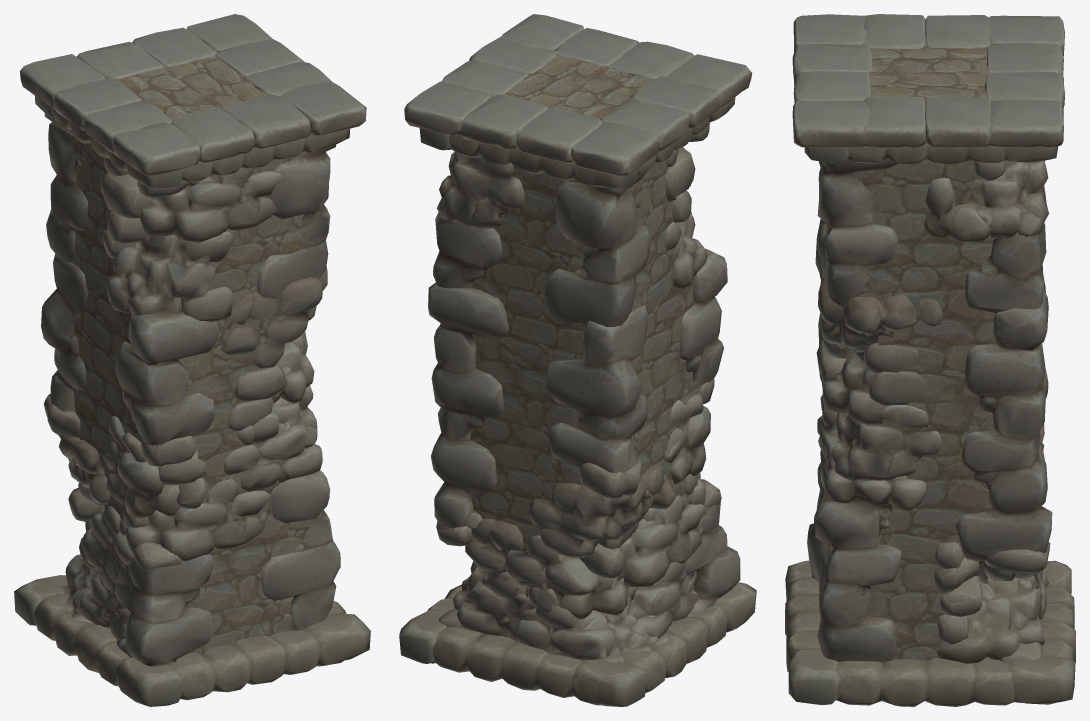
File: SM_FW01_Ruins_Int_Pillar_A_2x6_02.fbx
3 views of the same model, side by side, from view 1: azimuth 30°, elevation 25°; view 2: azimuth 150°, elevation 25°; view 3: azimuth 270°, elevation 25° (orthographic). The views are drawn at different scales.
Visible parts, largest first — view 1: SM_FW01_Ruins_Int_Pillar_A_2x6_02_LOD0, SM_FW01_Ruins_Int_Pillar_A_2x6_02; view 2: SM_FW01_Ruins_Int_Pillar_A_2x6_02_LOD0, SM_FW01_Ruins_Int_Pillar_A_2x6_02; view 3: SM_FW01_Ruins_Int_Pillar_A_2x6_02_LOD0, SM_FW01_Ruins_Int_Pillar_A_2x6_02.
Boxes of the visible parts, x1=… form: SM_FW01_Ruins_Int_Pillar_A_2x6_02_LOD0: x1=14, y1=14, x2=370, y2=706; SM_FW01_Ruins_Int_Pillar_A_2x6_02: x1=69, y1=46, x2=322, y2=654; SM_FW01_Ruins_Int_Pillar_A_2x6_02_LOD0: x1=399, y1=14, x2=756, y2=706; SM_FW01_Ruins_Int_Pillar_A_2x6_02: x1=468, y1=55, x2=700, y2=637; SM_FW01_Ruins_Int_Pillar_A_2x6_02_LOD0: x1=785, y1=14, x2=1075, y2=706; SM_FW01_Ruins_Int_Pillar_A_2x6_02: x1=826, y1=38, x2=997, y2=660.
Size of what is drawn, in the model's own units: 2.69 by 6.13 by 2.78.
